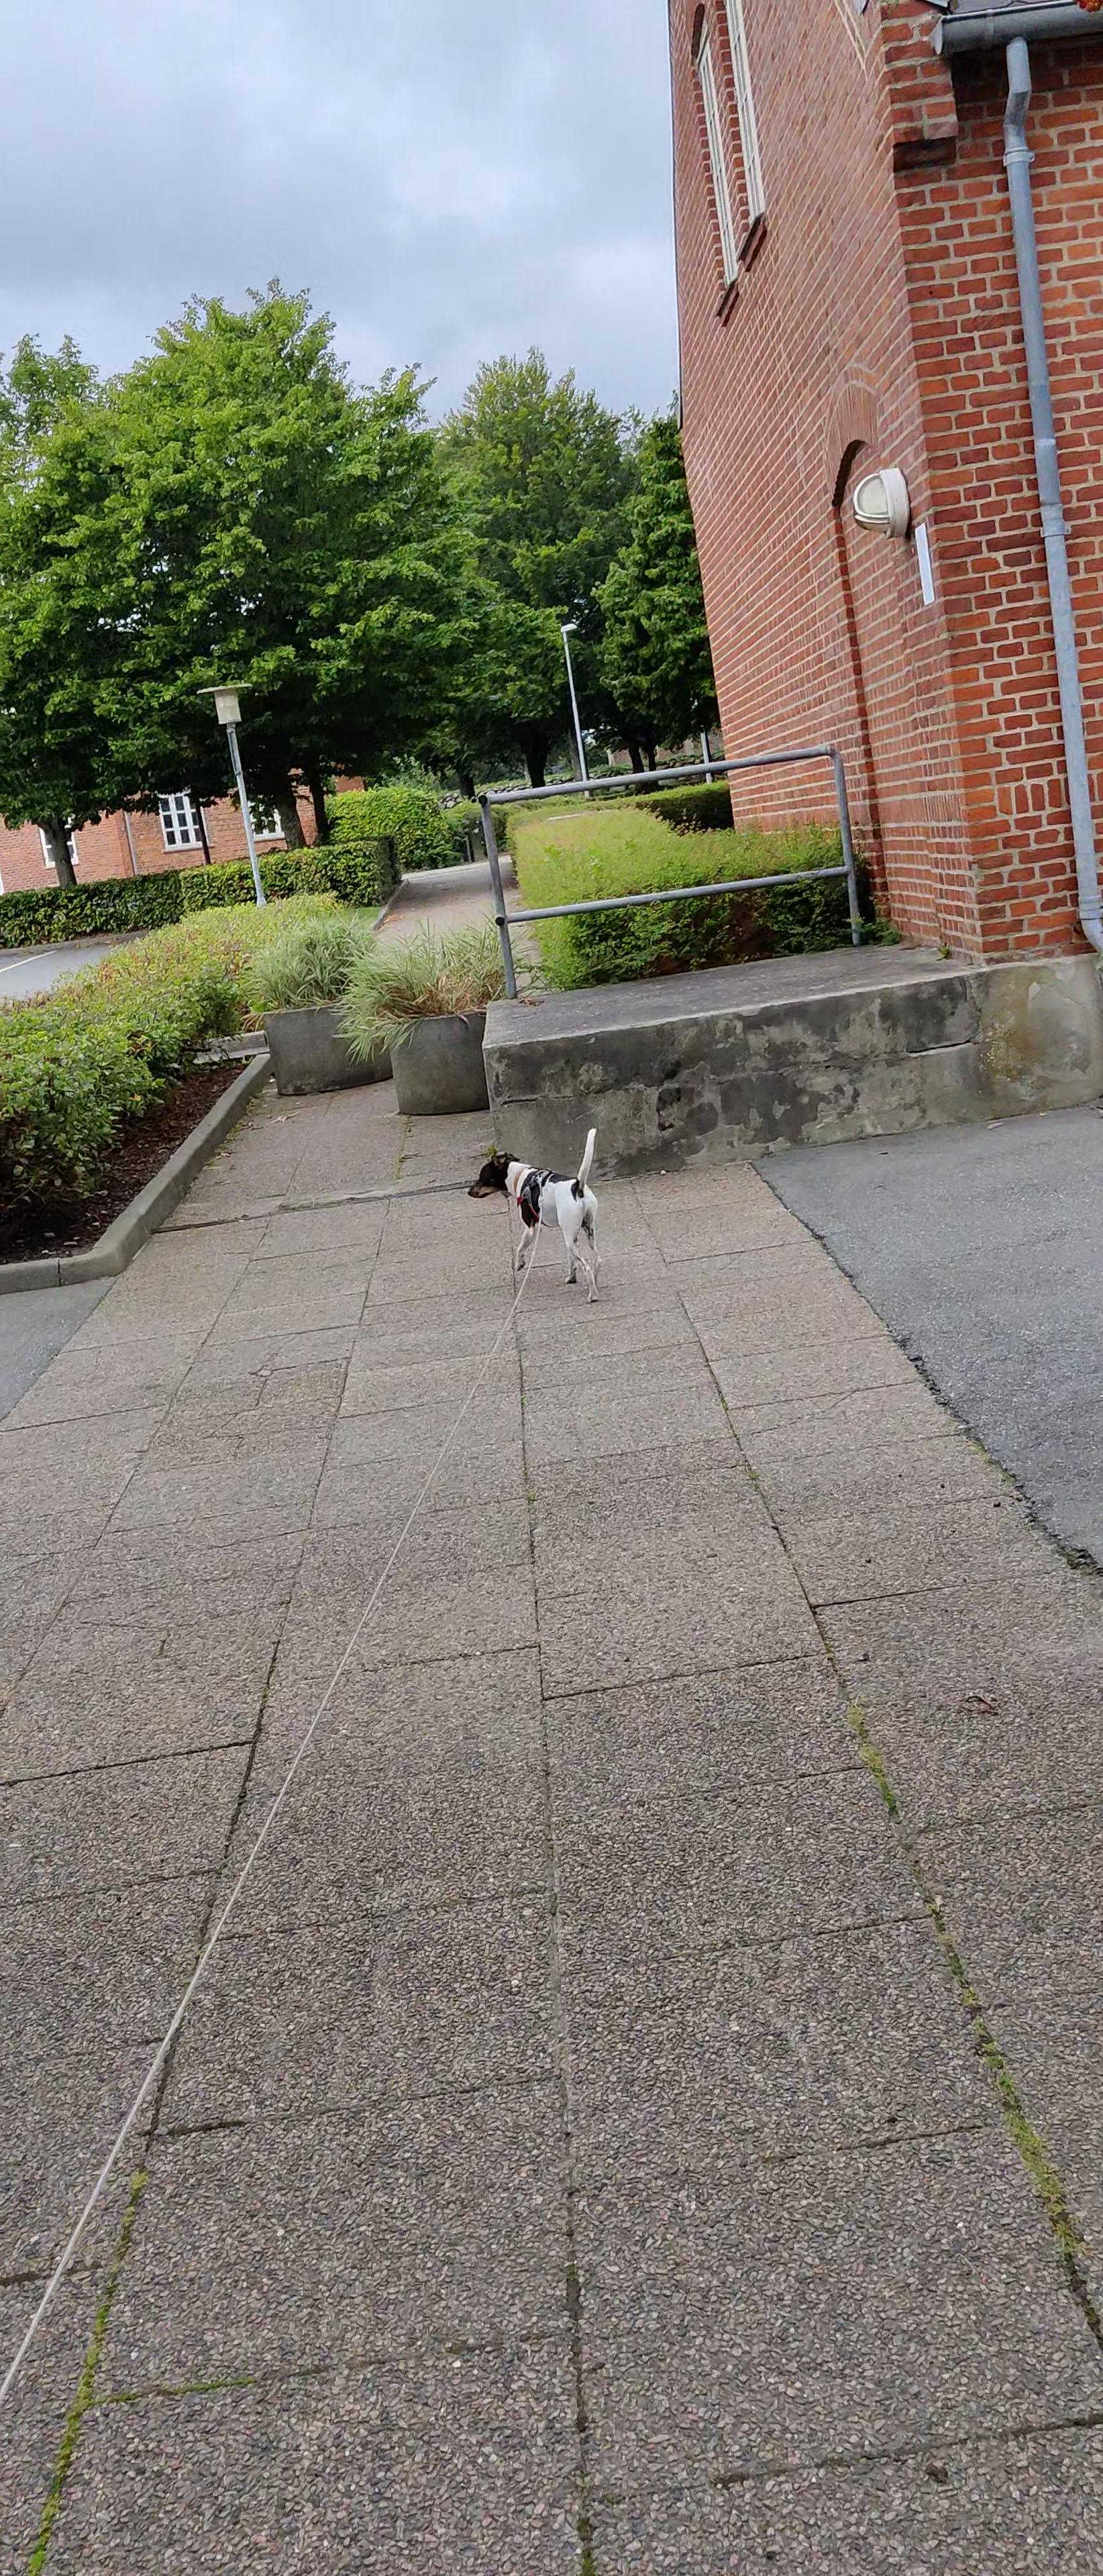Dog: (462, 1120, 608, 1303)
